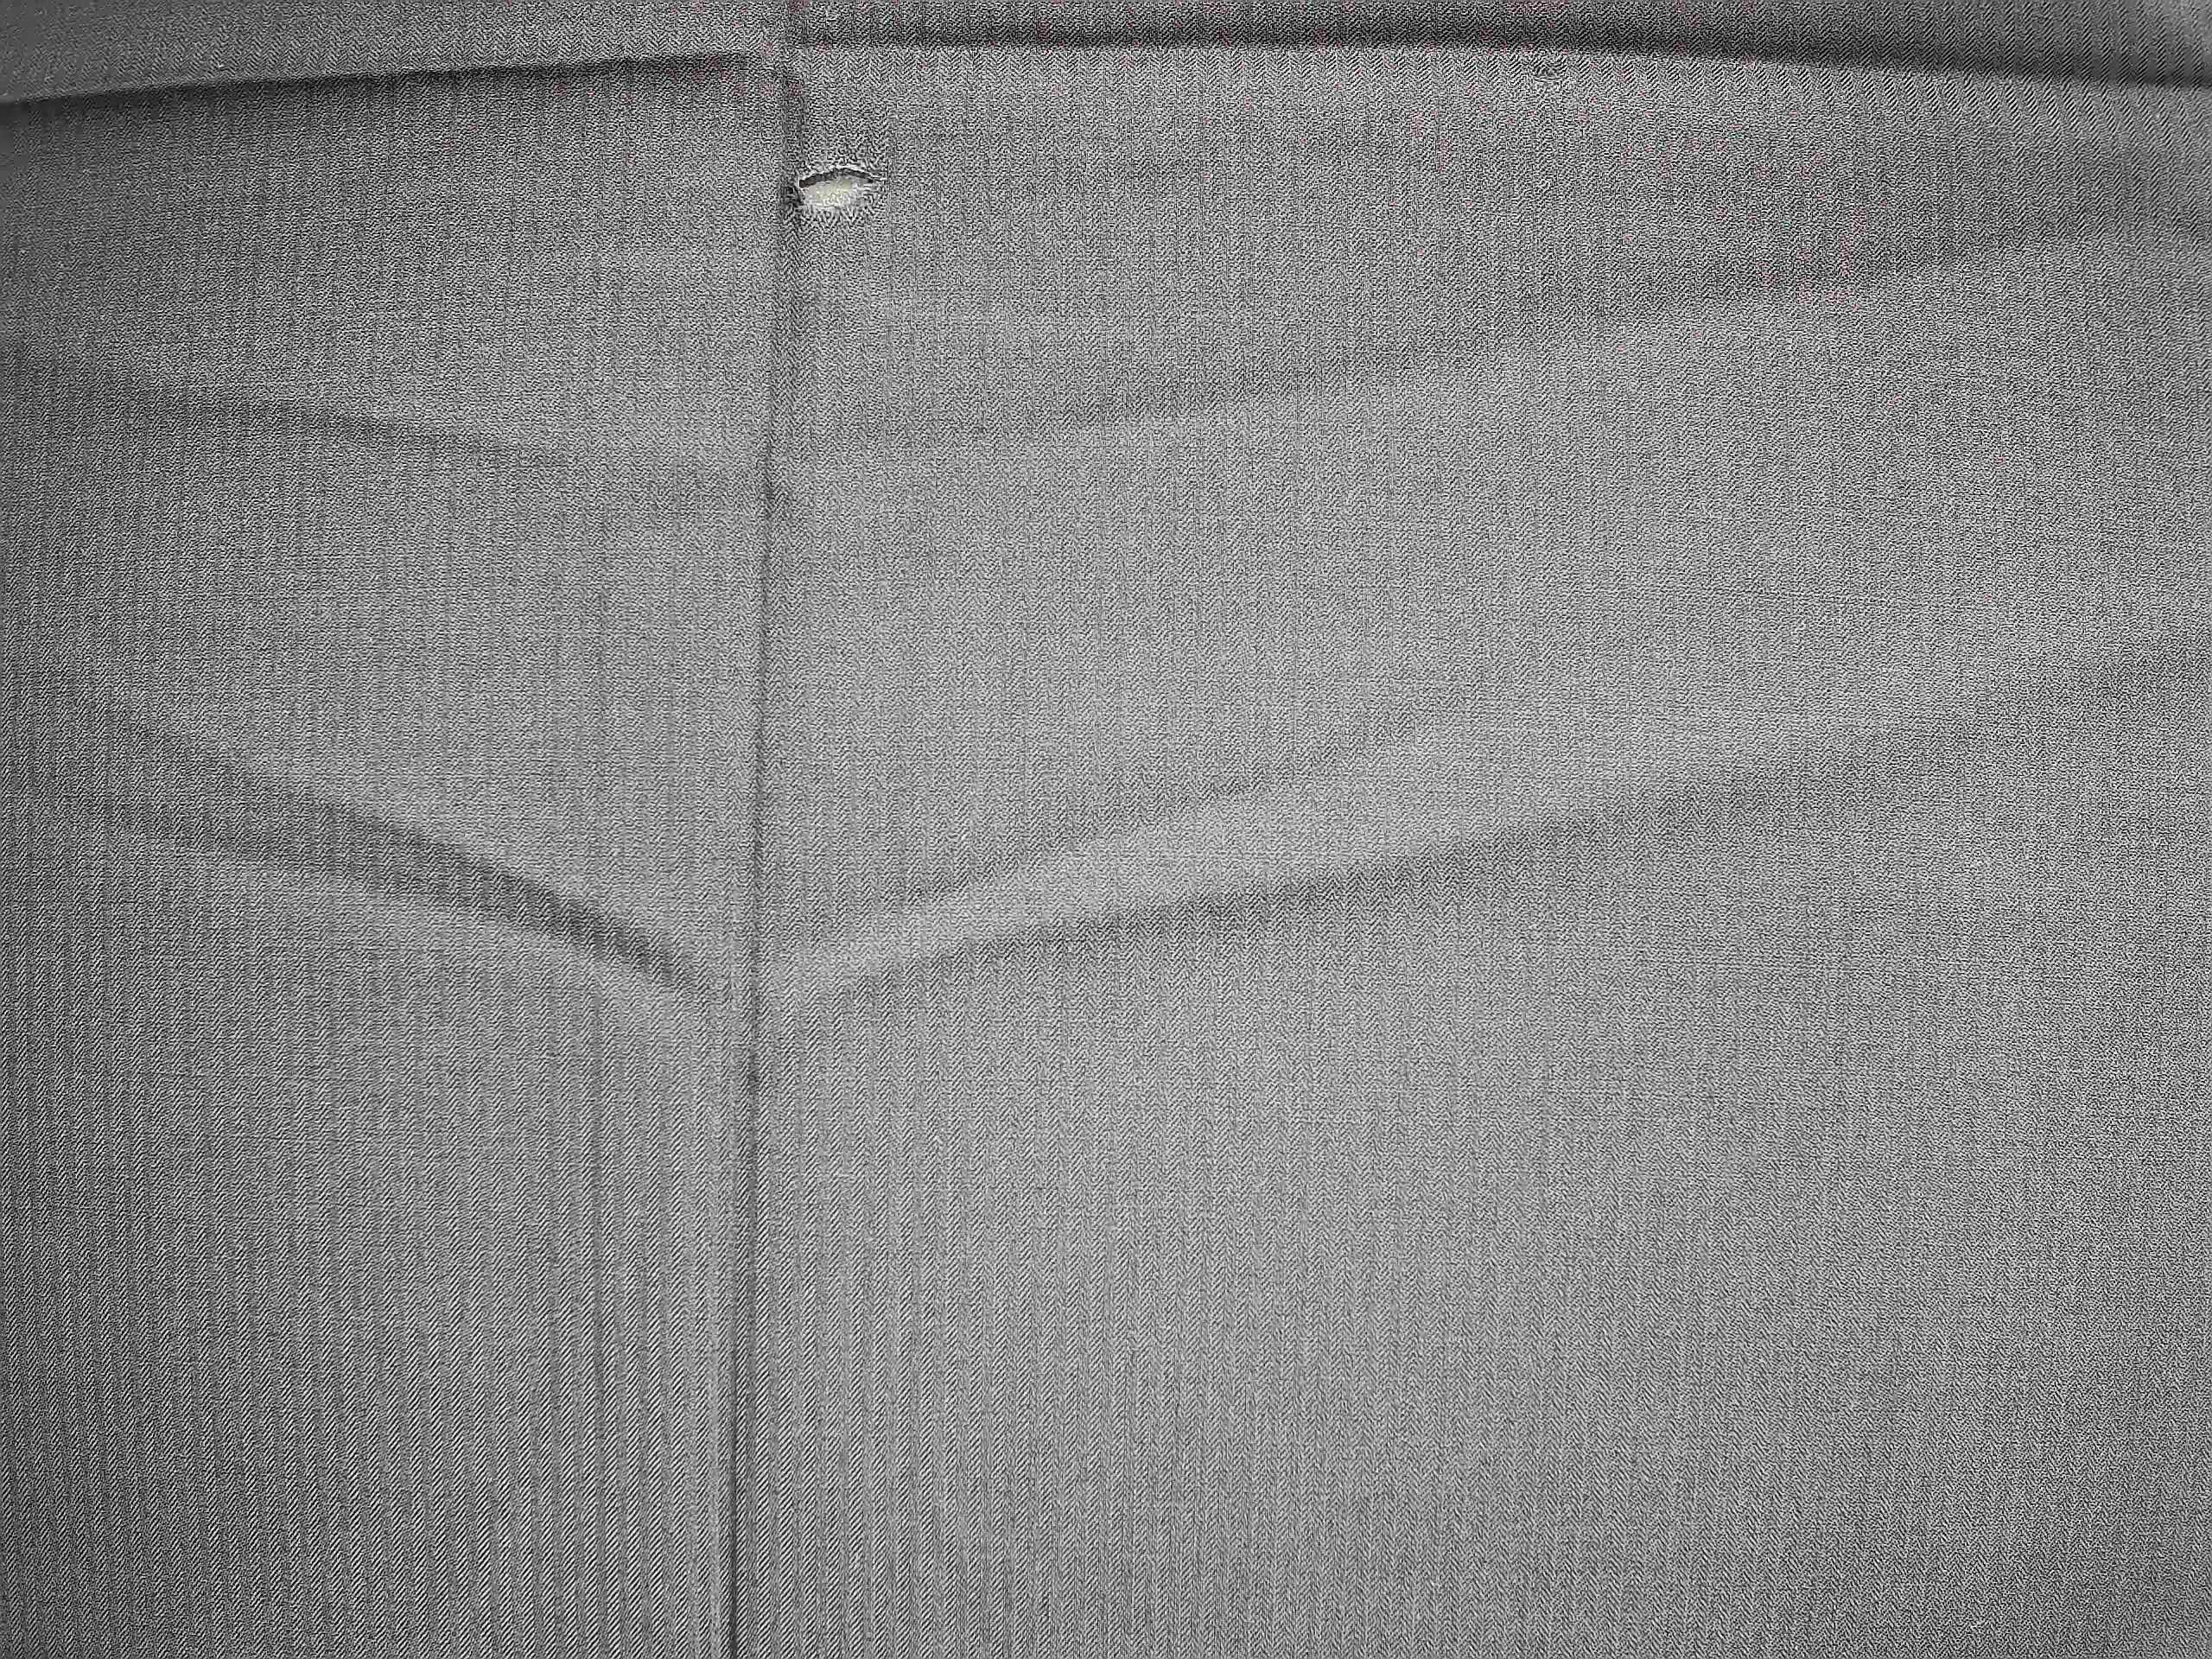brushed-hole: (770, 132, 906, 234)
